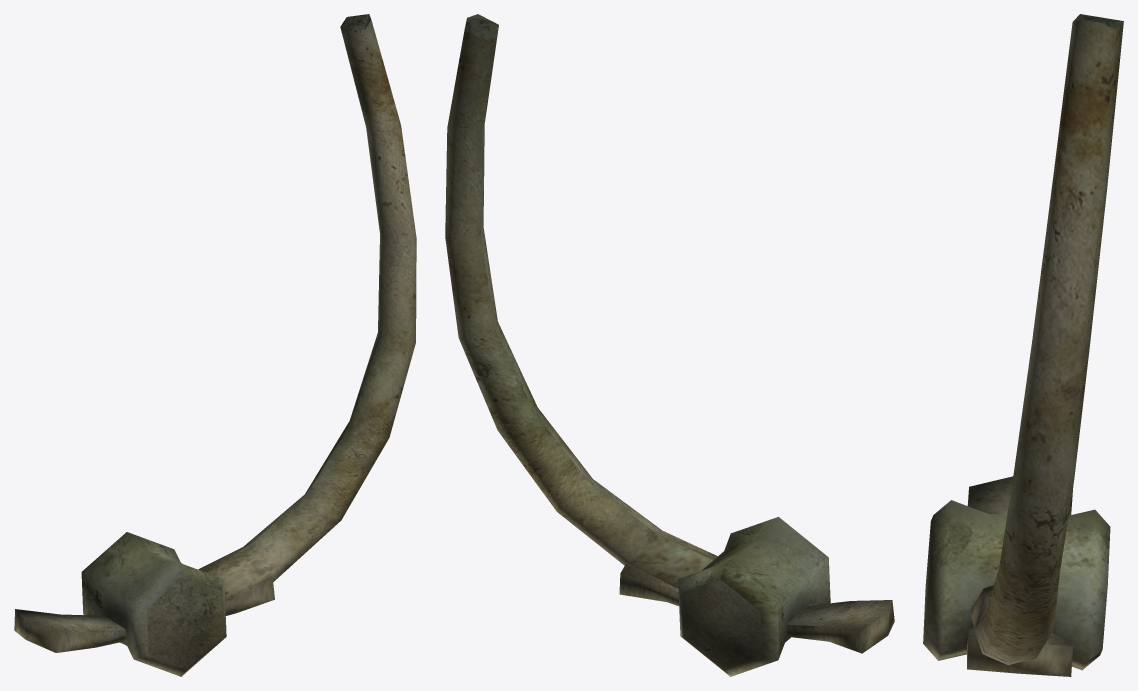
Rendered from bone_whale_piece_rib00.fbx.
3 renders of one model, left to right at view 1: azimuth 30°, elevation 25°; view 2: azimuth 150°, elevation 25°; view 3: azimuth 270°, elevation 25°, orthographic. The views are drawn at different scales.
Visible parts, largest first — view 1: bone_whale_piece_rib00; view 2: bone_whale_piece_rib00; view 3: bone_whale_piece_rib00.
Part boxes in pixels (left/top/right/bottom): bone_whale_piece_rib00: left=14, top=14, right=416, bottom=676; bone_whale_piece_rib00: left=445, top=14, right=894, bottom=676; bone_whale_piece_rib00: left=923, top=14, right=1123, bottom=676.
Size of the model in its own units: 8.5 by 11.49 by 2.55.
